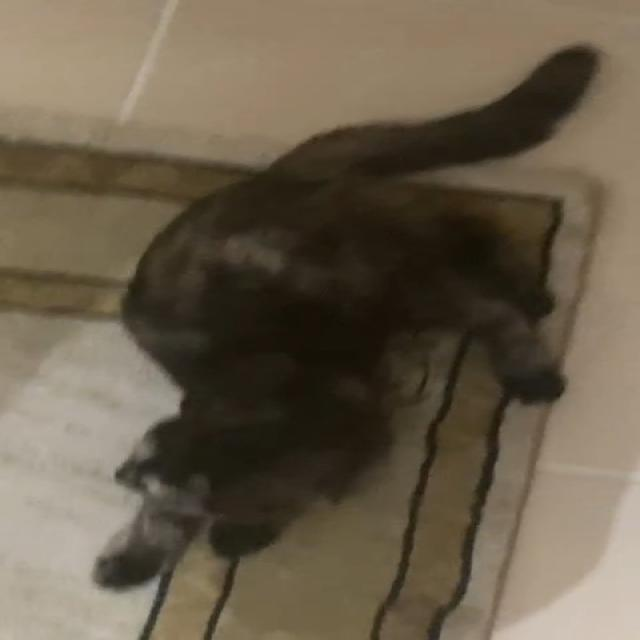authorized: (89, 41, 603, 638)
